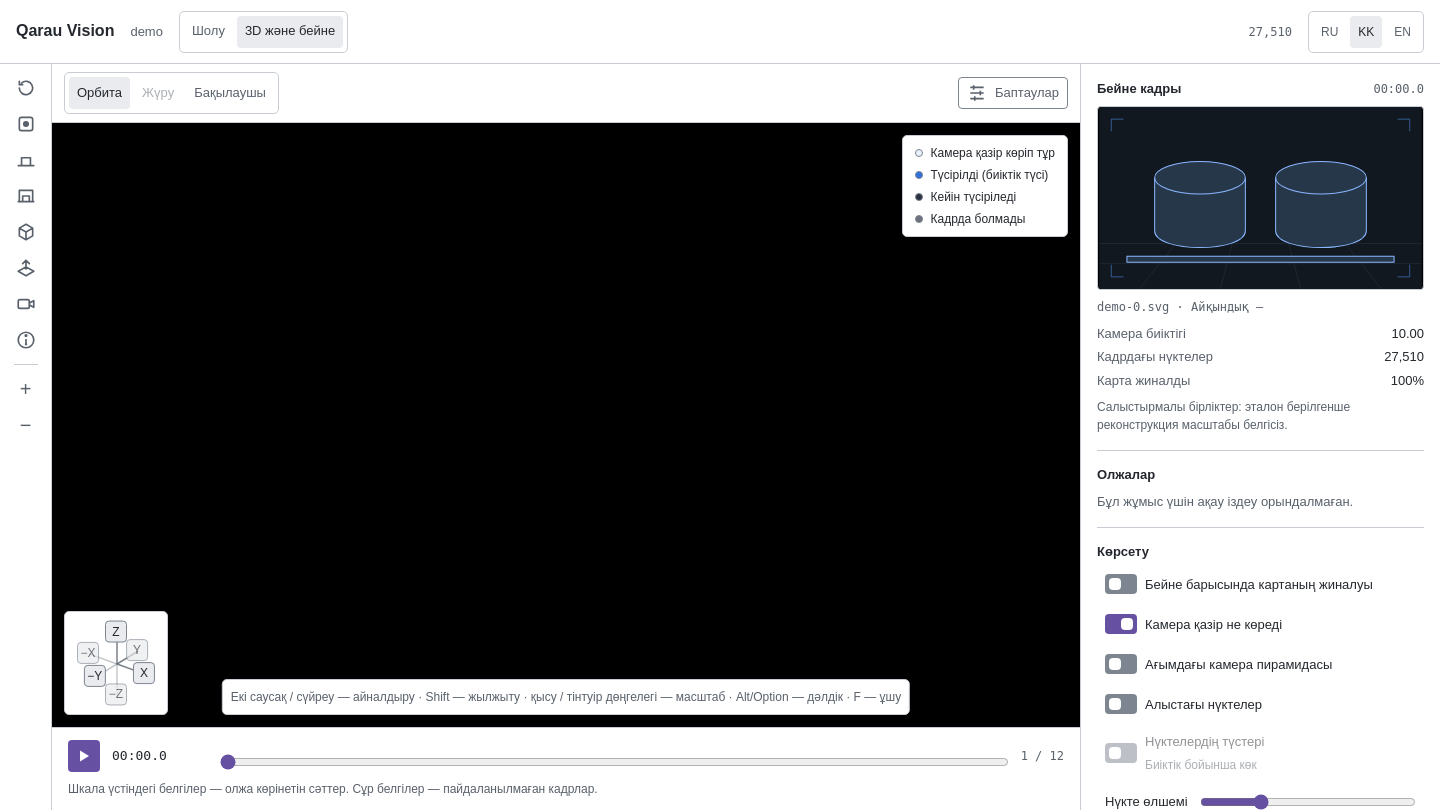
Test: localizes navigation modes, presets, surface alignment and settings (kk)
This screenshot has width=1440, height=810.
Expected: the button "Жүру" is disabled, [134,77,182,109]
Click the button "Бақылаушы" at [230, 93], box [186,77,274,109]
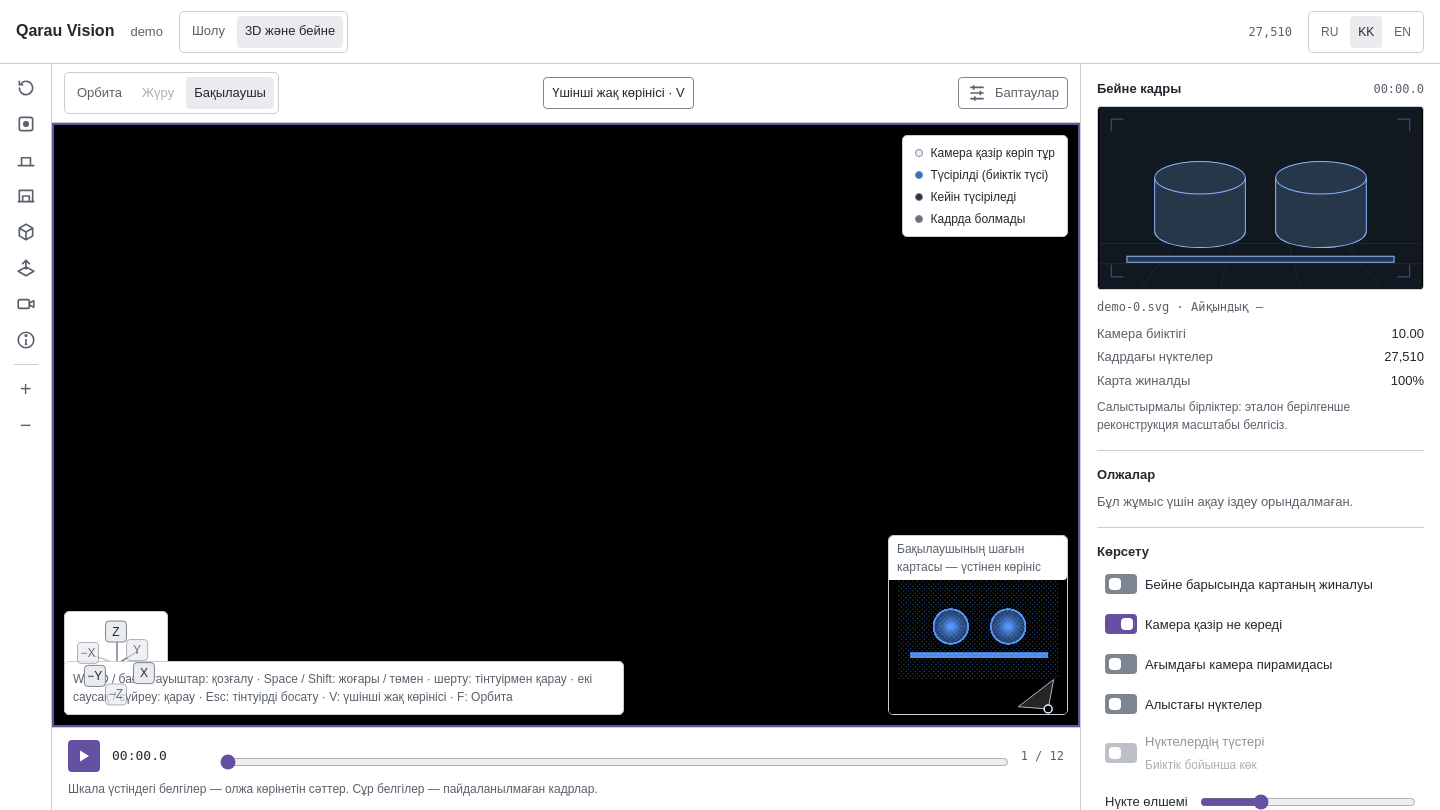
Now the message shows "WASD / бағыттауыштар: қозғалу · Space / Shift: жоғары / төмен · шерту: тінтуірмен қарау · екі саусақ / сүйреу: қарау · Esc: тінтуірді босату · V: үшінші жақ көр", box [73,672,592,704]
Click the button "Орбита" at [100, 93], box [69,77,130,109]
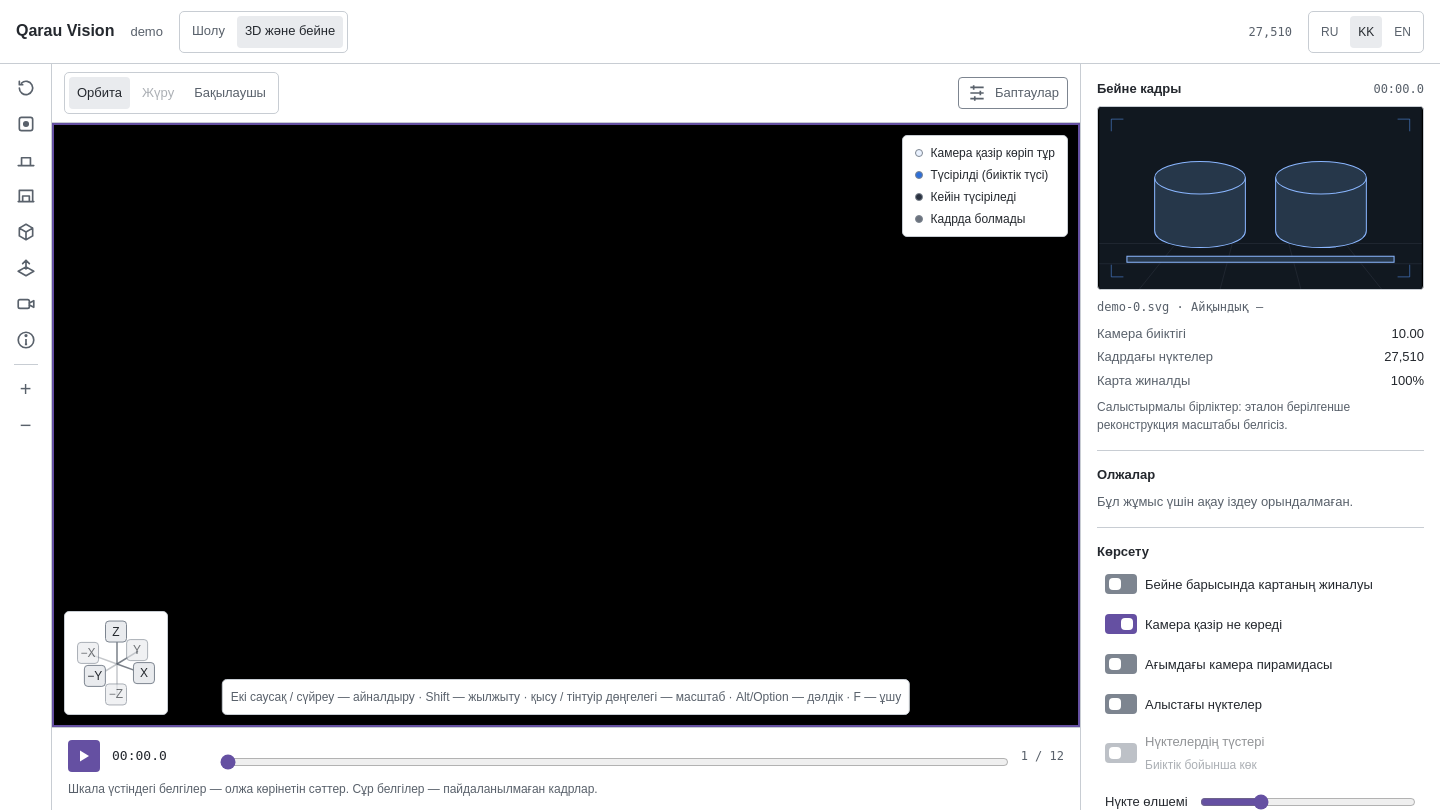
Expected: the button named "Жоғарыдан көрініс" is shown, [10,108,42,140]
Expected: the button named "Алдыңғы көрініс" is shown, [10,180,42,212]
Click the button named "Бетке туралау" at [26, 268], box [10,252,42,284]
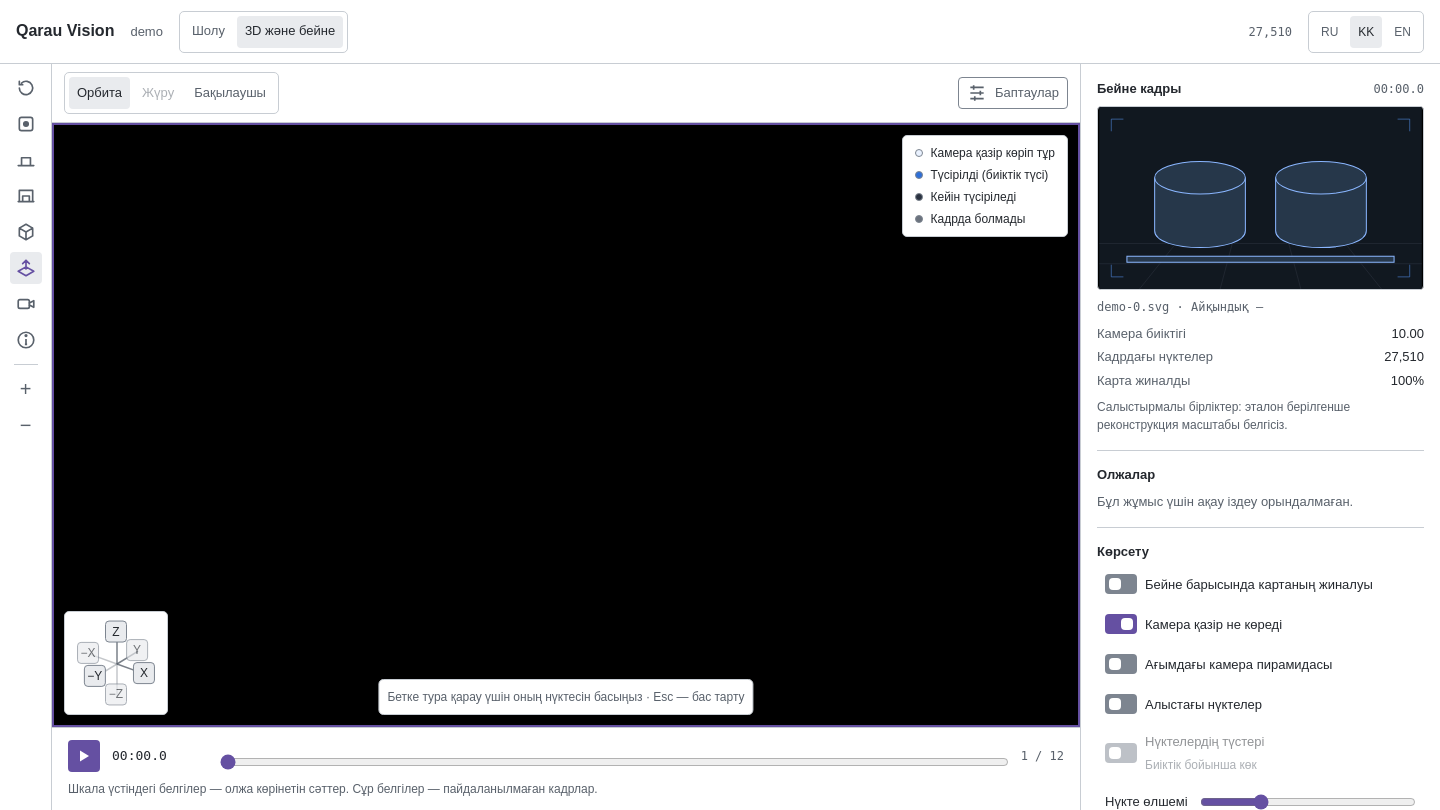
Now the message reads "Бетке тура қарау үшін оның нүктесін басыңыз · Esc — бас тарту", box [387,690,745,704]
Press Escape in the drawing named "Интерактивті 3D-карта: нүктелер бұлты және камера жолы. Екі саусақпен не тінтуірмен сүйреу — айналдыру, Shift — жылжыту,", box [52,123,1080,727]
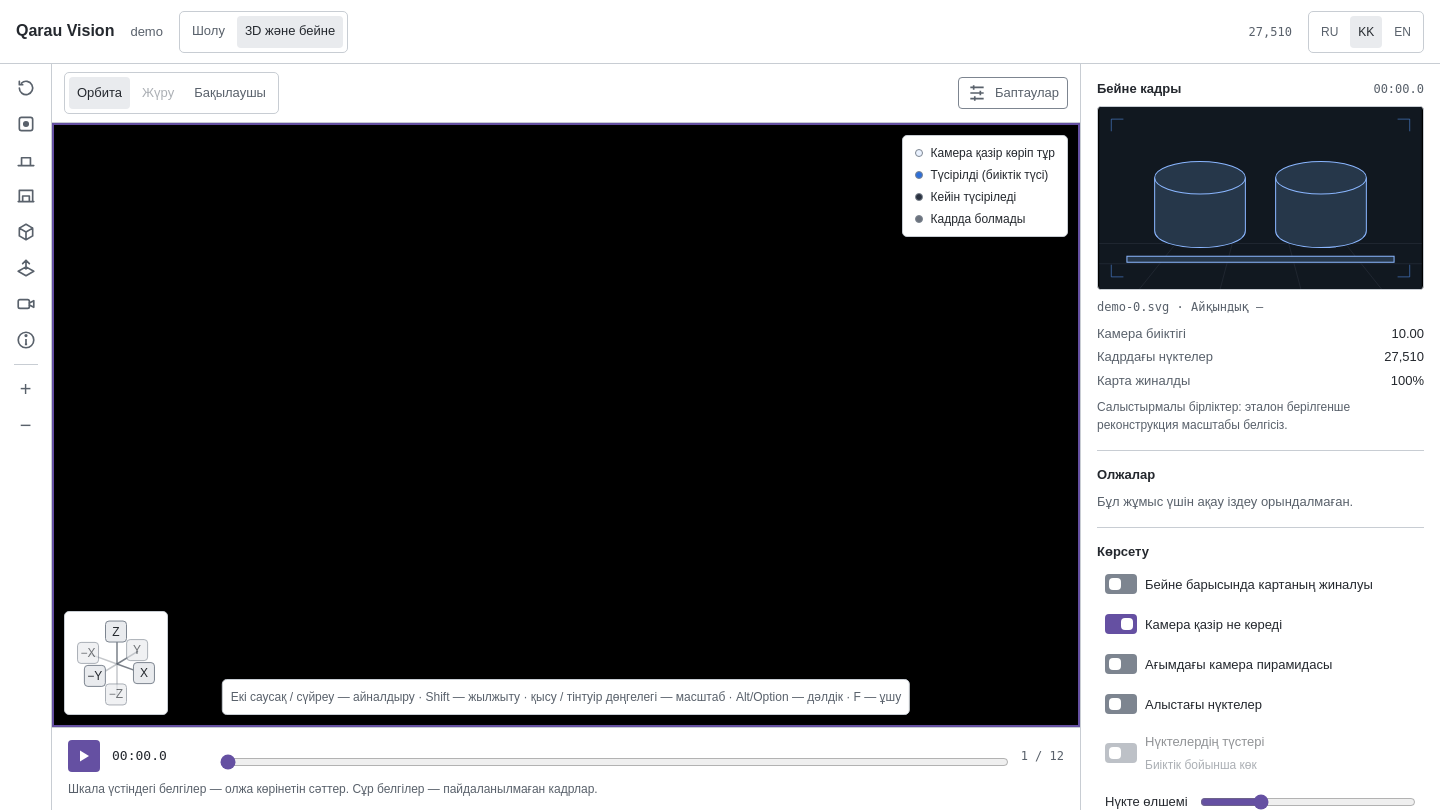
Now the message shows "Екі саусақ / сүйреу — айналдыру · Shift — жылжыту · қысу / тінтуір дөңгелегі — масштаб · Alt/Option — дәлдік · F — ұшу", box [231,690,901,704]
Click the heading "Баптаулар" at [1013, 93], box [958,77,1068,109]
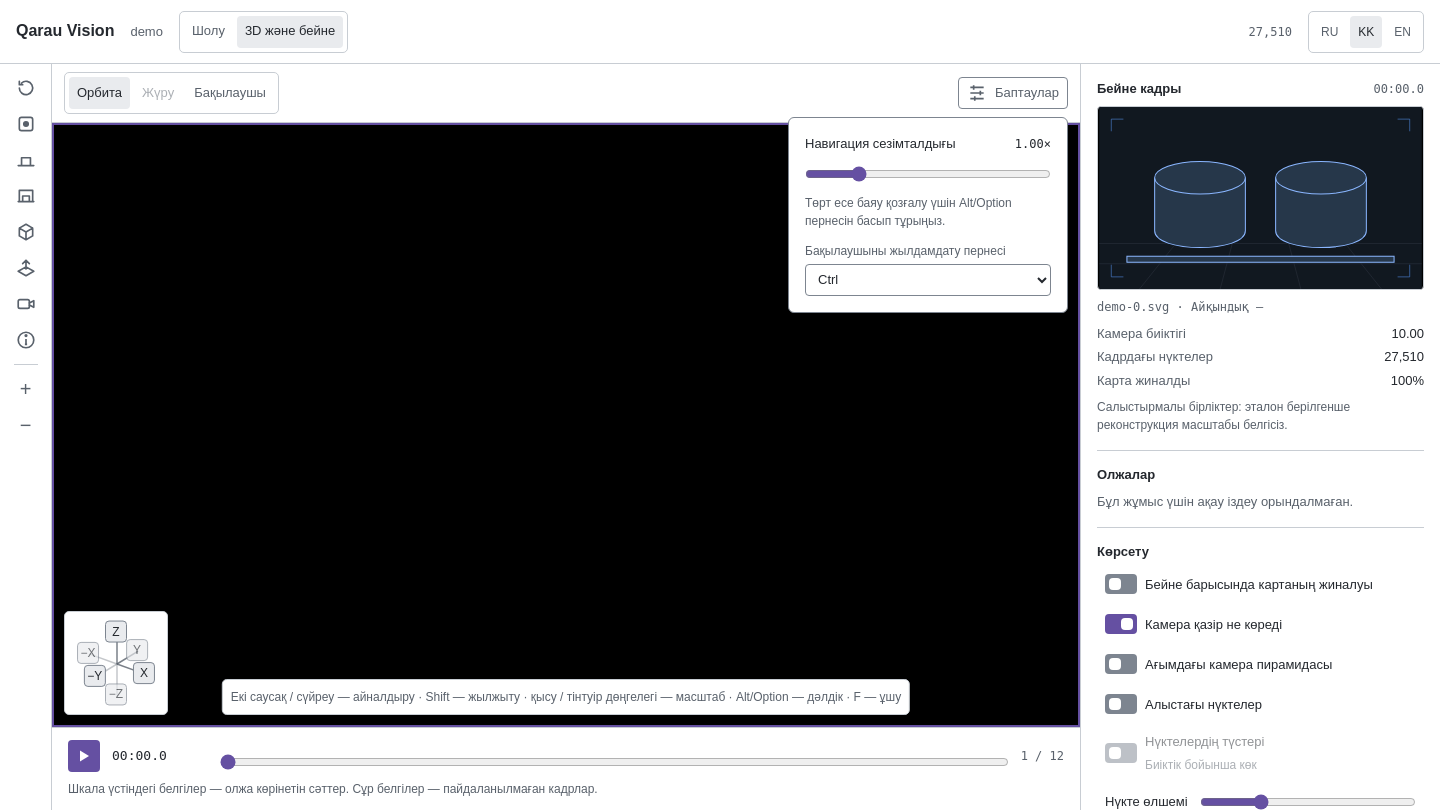
Now the slider labelled "Навигация сезімталдығы" is shown, box [805,166,1051,182]
Now the text "Төрт есе баяу қозғалу үшін Alt/Option пернесін басып тұрыңыз." is shown, box [805,196,1012,228]
